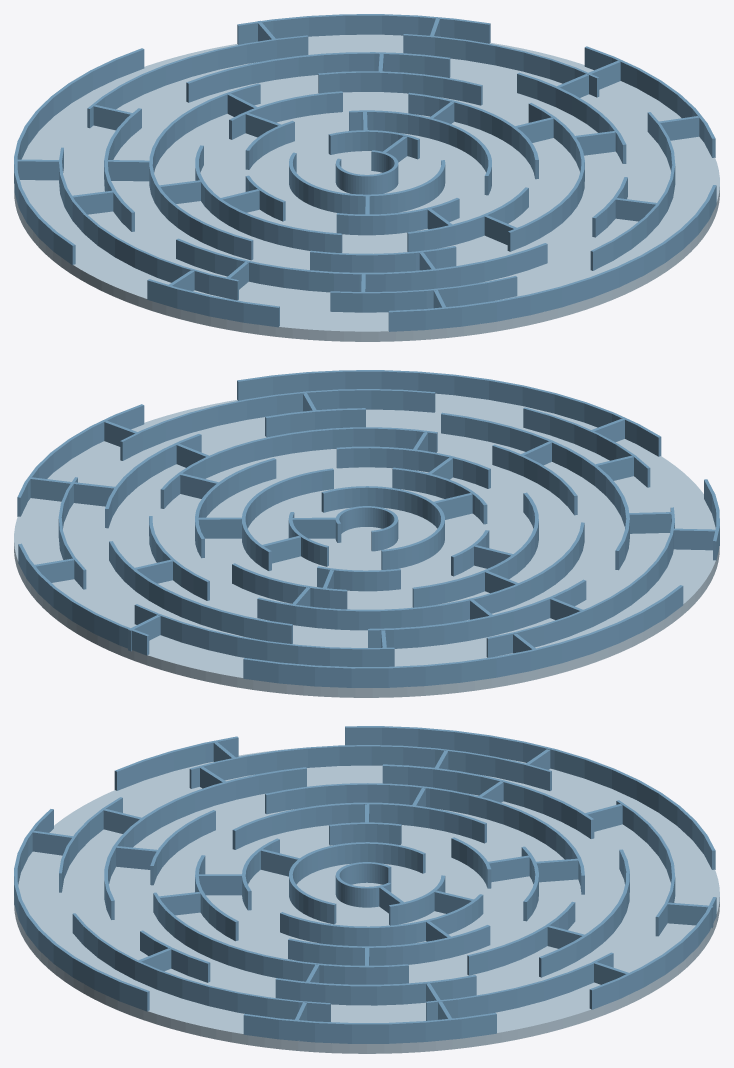
Rendered from maze5.fbx.
The picture shows the model from 3 angles, top to bottom: view 1: azimuth 30°, elevation 25°; view 2: azimuth 150°, elevation 25°; view 3: azimuth 270°, elevation 25°; orthographic projection.
Visible parts, largest first — view 1: Cylinder, Cylinder.007, Cylinder.008, Cylinder.006, Cylinder.005, Cylinder.004, Cylinder.003, Cylinder.002, Cylinder.001, Cube.018, Cube.011, Cube.026 (+10 smaller); view 2: Cylinder, Cylinder.007, Cylinder.008, Cylinder.006, Cylinder.005, Cylinder.004, Cylinder.003, Cylinder.002, Cylinder.001, Cube.007, Cube.029, Cube.020 (+10 smaller); view 3: Cylinder, Cylinder.007, Cylinder.008, Cylinder.006, Cylinder.005, Cylinder.004, Cylinder.003, Cylinder.002, Cylinder.001, Cube.006, Cube.009, Cube.005 (+9 smaller).
Boxes of the visible parts, x1,y1,x2,y2 form: Cylinder: (14, 34, 719, 341); Cylinder.007: (14, 14, 716, 331); Cylinder.008: (59, 34, 675, 312); Cylinder.006: (104, 52, 627, 292); Cylinder.005: (149, 71, 584, 272); Cylinder.004: (195, 91, 538, 252); Cylinder.003: (245, 110, 491, 235); Cylinder.002: (289, 130, 445, 214); Cylinder.001: (335, 150, 398, 194); Cube.018: (108, 160, 149, 181); Cube.011: (17, 159, 58, 180); Cube.026: (575, 131, 615, 155); Cylinder: (14, 393, 719, 697); Cylinder.007: (17, 370, 719, 687); Cylinder.008: (58, 389, 674, 666); Cylinder.006: (105, 408, 629, 648); Cylinder.005: (149, 427, 584, 630); Cylinder.004: (195, 446, 538, 609); Cylinder.003: (241, 467, 489, 591); Cylinder.002: (288, 486, 444, 569); Cylinder.001: (335, 506, 398, 551); Cube.007: (198, 517, 241, 538); Cube.029: (629, 512, 671, 533); Cube.020: (673, 528, 715, 550); Cylinder: (14, 748, 719, 1053); Cylinder.007: (14, 726, 716, 1043); Cylinder.008: (59, 745, 675, 1021); Cylinder.006: (104, 764, 629, 1005); Cylinder.005: (150, 783, 584, 984); Cylinder.004: (195, 802, 538, 965); Cylinder.003: (242, 822, 491, 946); Cylinder.002: (289, 842, 445, 925); Cylinder.001: (335, 862, 391, 907); Cube.006: (199, 874, 241, 895); Cube.009: (536, 858, 578, 882); Cube.005: (488, 855, 529, 882).
Bounding box in the file's own units: 1354 × 62.65 × 1354.
